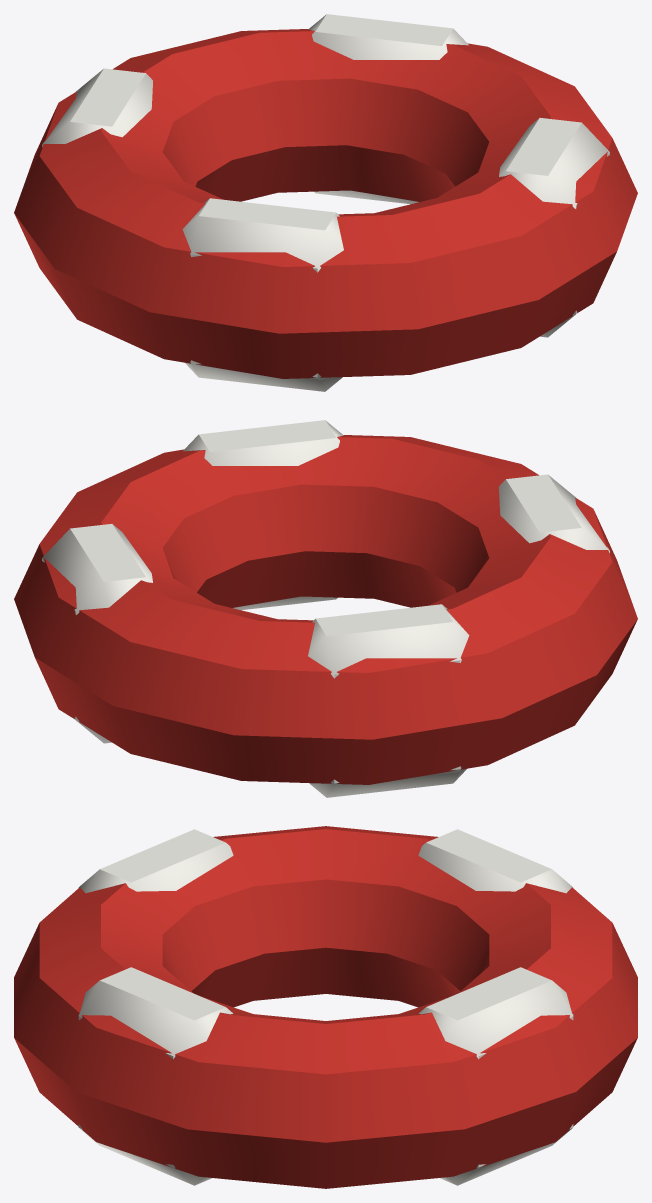
File: float_ring.glb
3 views of the same model, one above another, from view 1: azimuth 30°, elevation 25°; view 2: azimuth 150°, elevation 25°; view 3: azimuth 270°, elevation 25° (orthographic). The views are drawn at different scales.
Visible parts, largest first — view 1: FloatRing; view 2: FloatRing; view 3: FloatRing.
Part boxes in pixels (left/top/right/bottom): FloatRing: left=14, top=14, right=637, bottom=391; FloatRing: left=14, top=420, right=637, bottom=797; FloatRing: left=14, top=826, right=637, bottom=1188.
Size of the model in its own units: 0.86 by 0.245 by 0.8384.
